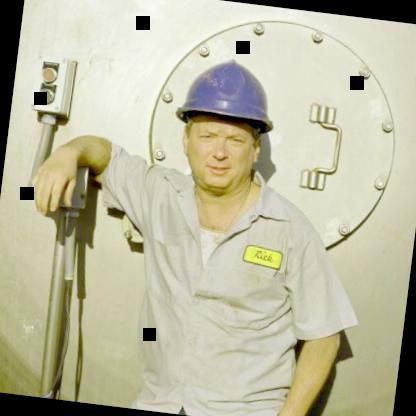helmet: (148, 34, 294, 218)
